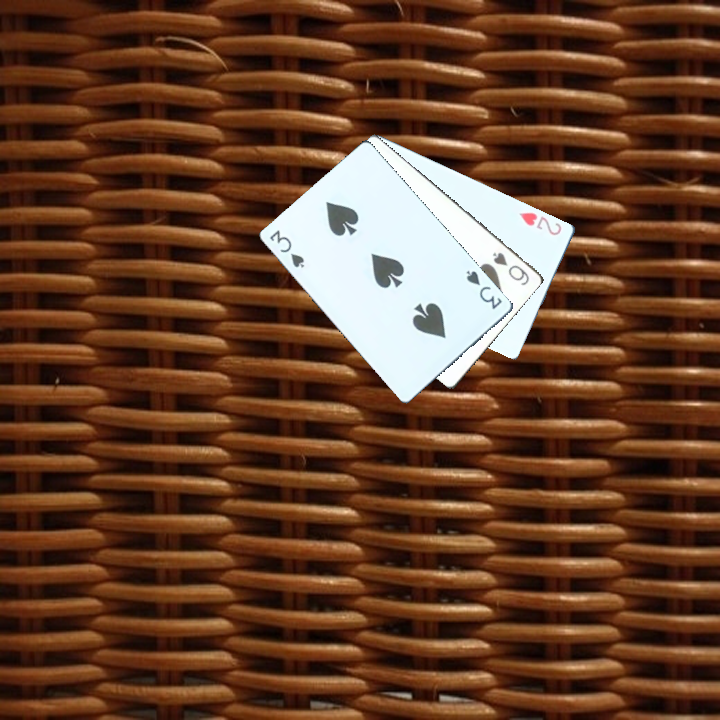2h: (515, 208, 564, 238)
3s: (462, 267, 504, 312), (265, 226, 307, 270)
6s: (489, 248, 532, 288)
